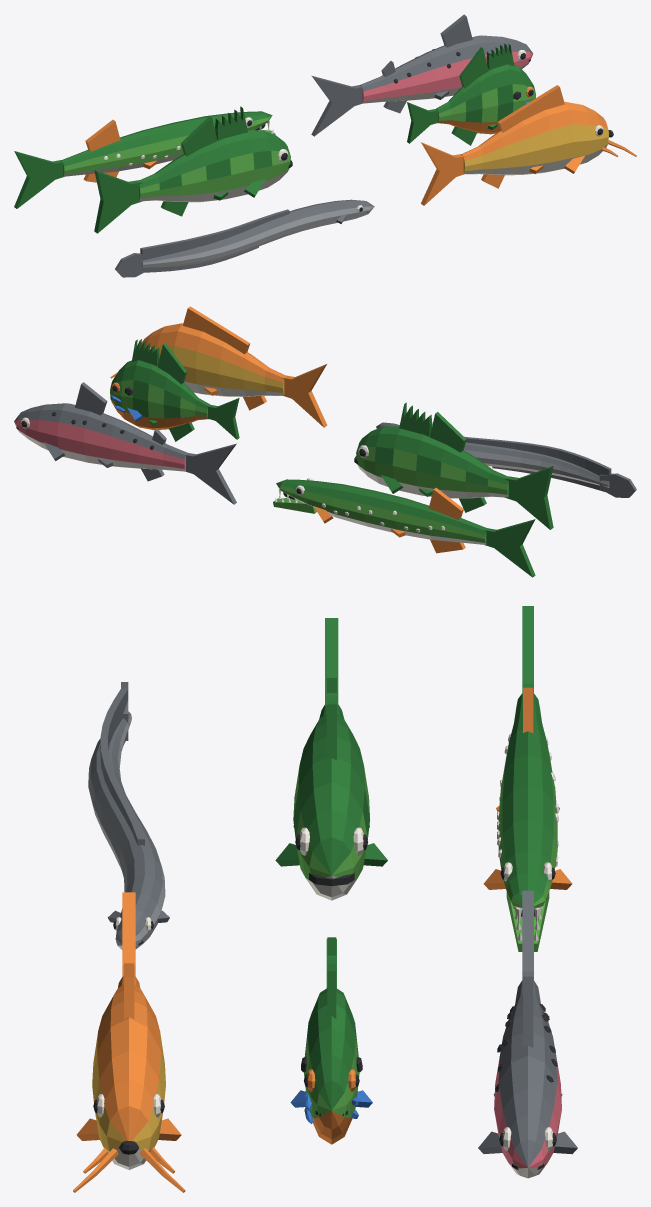
File: river-fish-set.glb
3 views of the same model, one above another, from view 1: azimuth 30°, elevation 25°; view 2: azimuth 150°, elevation 25°; view 3: azimuth 270°, elevation 25° (orthographic). The views are drawn at different scales.
Visible parts, largest first — view 1: Fish_Bass, Fish_Carp, Fish_Eel, Fish_Salmon, Fish_Sunfish, Fish_Pike, Fish_Bass_Tail, Fish_Salmon_Tail, Fish_Pike_Tail, Fish_Carp_Tail, Fish_Sunfish_Tail, Fish_Eel_Tail; view 2: Fish_Bass, Fish_Salmon, Fish_Pike, Fish_Carp, Fish_Sunfish, Fish_Eel, Fish_Bass_Tail, Fish_Pike_Tail, Fish_Salmon_Tail, Fish_Carp_Tail, Fish_Sunfish_Tail, Fish_Eel_Tail (+1 smaller); view 3: Fish_Carp, Fish_Bass, Fish_Pike, Fish_Salmon, Fish_Eel, Fish_Sunfish, Fish_Carp_Tail, Fish_Salmon_Tail, Fish_Pike_Tail, Fish_Bass_Tail.
Part boxes in pixels (box(x1,y1,x2,y2)): Fish_Bass: box(137, 106, 292, 216); Fish_Carp: box(461, 85, 636, 188); Fish_Eel: box(140, 199, 374, 272); Fish_Salmon: box(359, 14, 533, 113); Fish_Sunfish: box(436, 43, 535, 145); Fish_Pike: box(61, 110, 272, 182); Fish_Bass_Tail: box(94, 170, 143, 233); Fish_Salmon_Tail: box(311, 75, 362, 136); Fish_Pike_Tail: box(14, 151, 64, 208); Fish_Carp_Tail: box(421, 142, 465, 205); Fish_Sunfish_Tail: box(407, 102, 438, 143); Fish_Eel_Tail: box(115, 253, 142, 277); Fish_Bass: box(354, 402, 510, 512); Fish_Salmon: box(14, 382, 188, 481); Fish_Pike: box(276, 478, 487, 553); Fish_Carp: box(110, 306, 286, 410); Fish_Sunfish: box(110, 339, 210, 441); Fish_Eel: box(376, 422, 611, 491); Fish_Bass_Tail: box(504, 466, 553, 529); Fish_Pike_Tail: box(485, 519, 535, 577); Fish_Salmon_Tail: box(185, 443, 236, 504); Fish_Carp_Tail: box(282, 364, 327, 427); Fish_Sunfish_Tail: box(208, 398, 239, 439); Fish_Eel_Tail: box(599, 473, 636, 497); Fish_Carp: box(73, 963, 185, 1192); Fish_Bass: box(275, 678, 387, 900); Fish_Pike: box(483, 687, 572, 924); Fish_Salmon: box(478, 976, 577, 1178); Fish_Eel: box(88, 688, 169, 949); Fish_Sunfish: box(290, 937, 372, 1144); Fish_Carp_Tail: box(122, 892, 135, 977); Fish_Salmon_Tail: box(522, 890, 533, 980); Fish_Pike_Tail: box(522, 606, 533, 694); Fish_Bass_Tail: box(325, 618, 338, 705).
Size of the model in its own units: 8.11 by 1.41 by 3.42.
